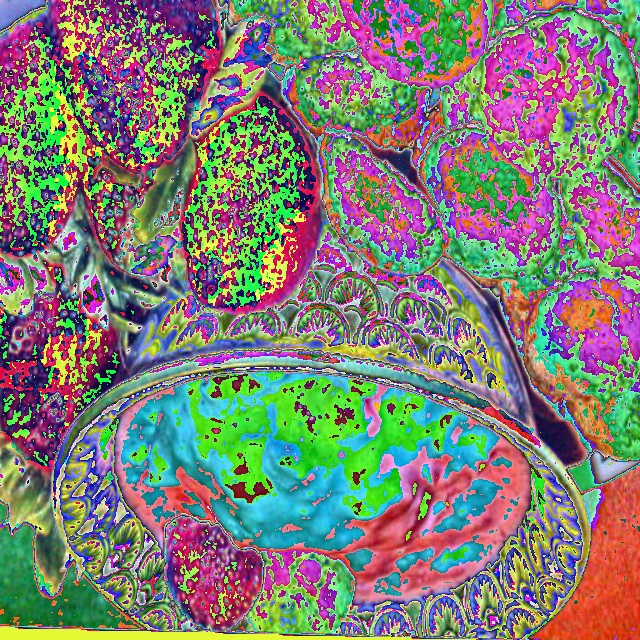background: (0, 0, 640, 600), (112, 265, 534, 634)
